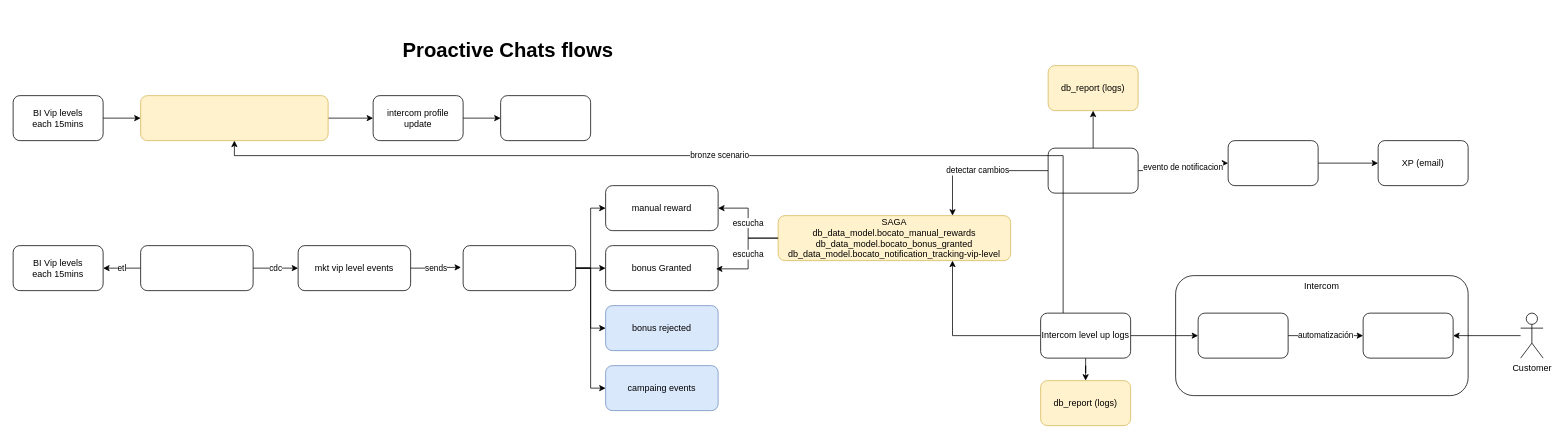
The diagram is 1565 pixels wide and 439 high, and some of its shapes have lost their labels. Here are the shapes that lost their labels. From the top down, the centre of each, then its label:
At [234,118]: "SAGA db_business_model.vip_level_up db_business_model.vip_level_progress".
At [545,118]: "Intercom Profile".
At [1092,170]: "Xtremepush Notification (manual reward/ bonus granted)".
At [1272,163]: "MSP".
At [196,268]: "CommonDB.VIPLevels (LFR)".
At [519,268]: "Bocato".
At [1242,335]: "Intercom Events".
At [1407,335]: "Intercom Conversation".
